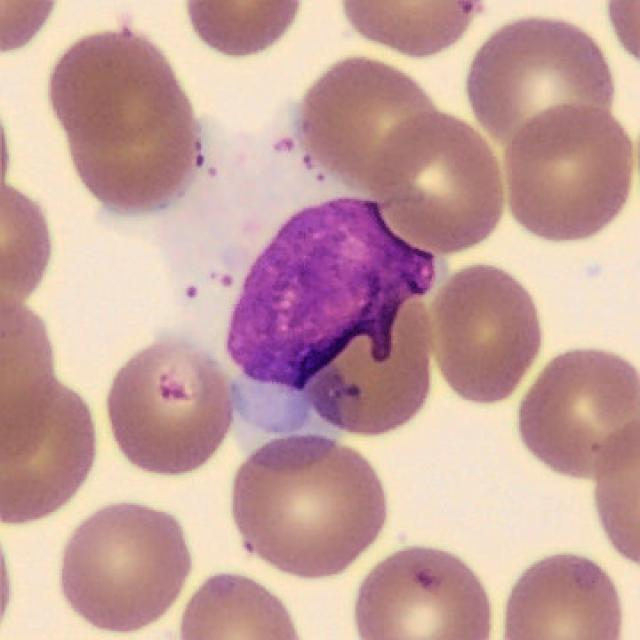Linfocito atipico: (98, 101, 436, 391)
